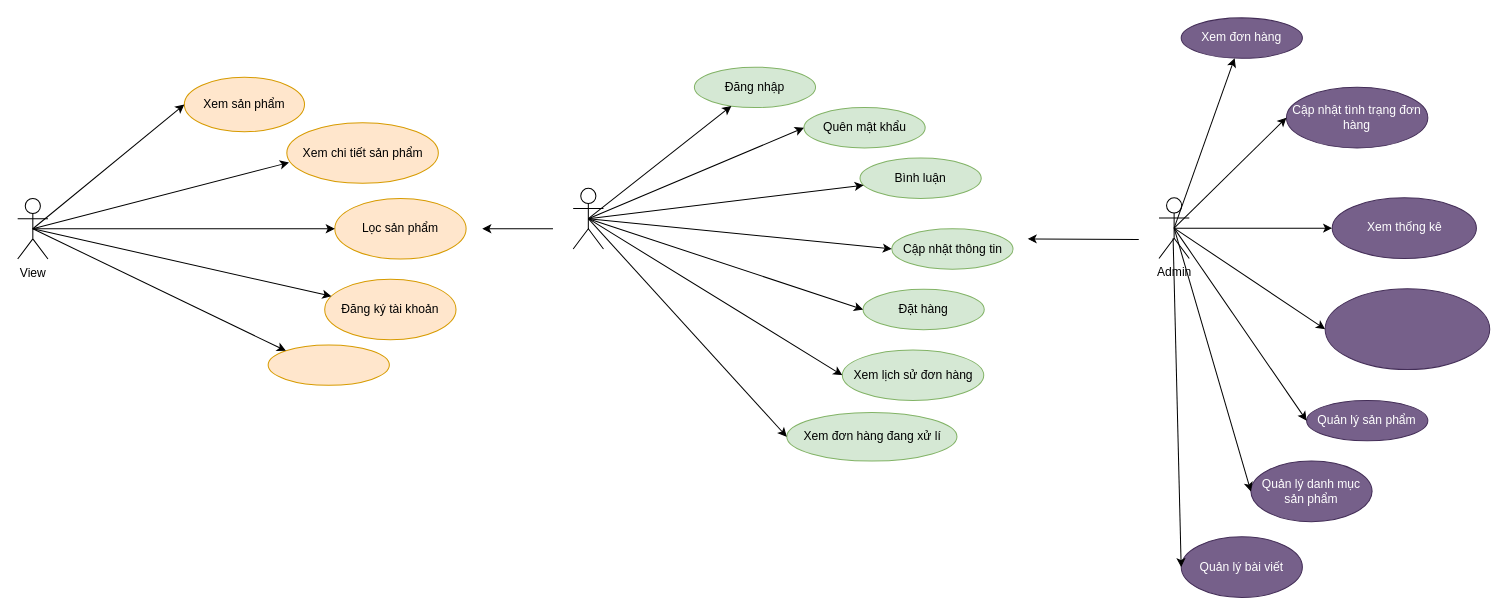
Image size: 1508x615. Some labels were removed from this diagram. The shapes that lost their labels are listed below. From the top down, each one's centre as x and y in pixels, then its label:
the point at 587,218: Khách hàng
the point at 1407,329: Quản lý tài khoản và phân quyền người dùng
the point at 328,364: Tìm kiếm
